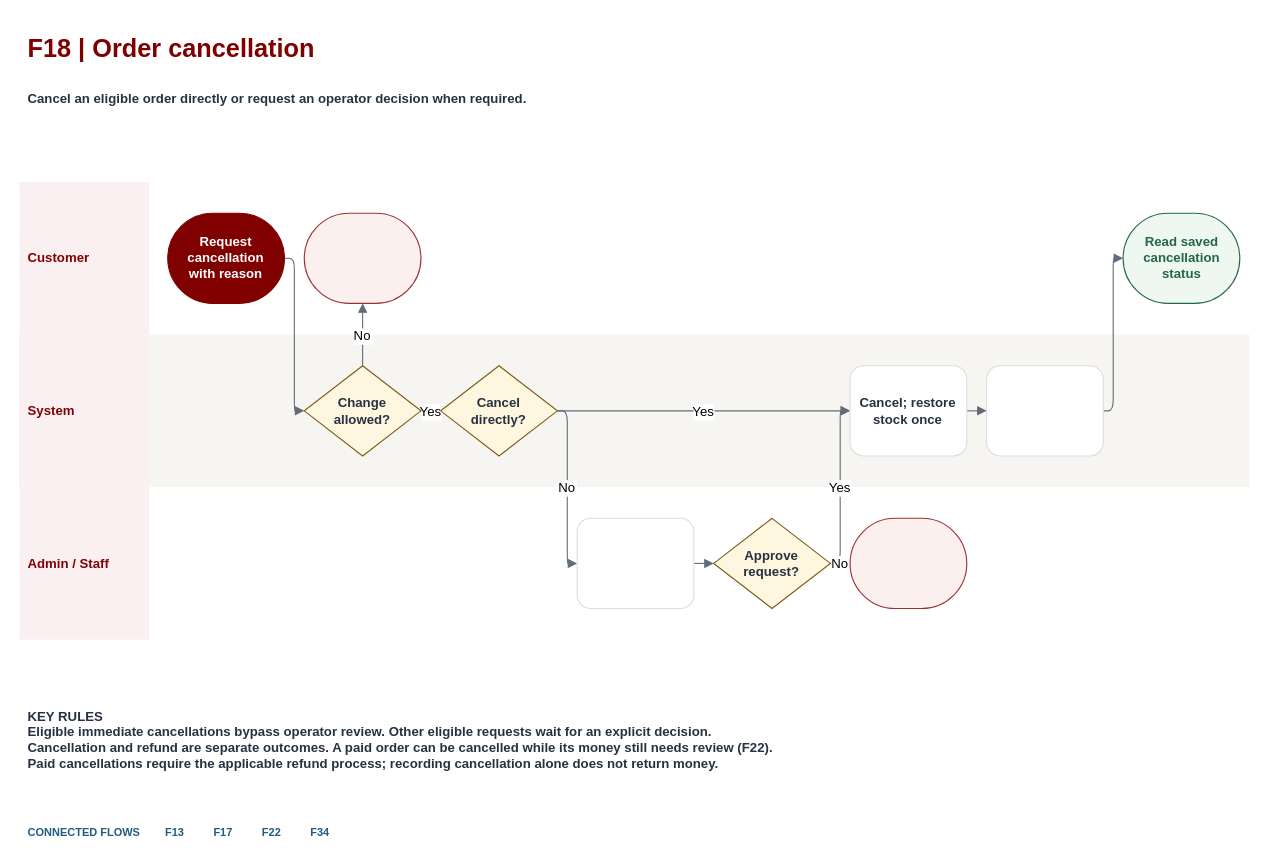
Image size: 1268x860. Some labels were removed from this diagram. Each missing label, with the box of its shape:
Decline; tell Customer why: (849, 517, 967, 609)
Queue refund review if due: (985, 365, 1103, 456)
Read blocker; keep order: (303, 212, 421, 303)
Review pending request: (576, 517, 694, 609)
